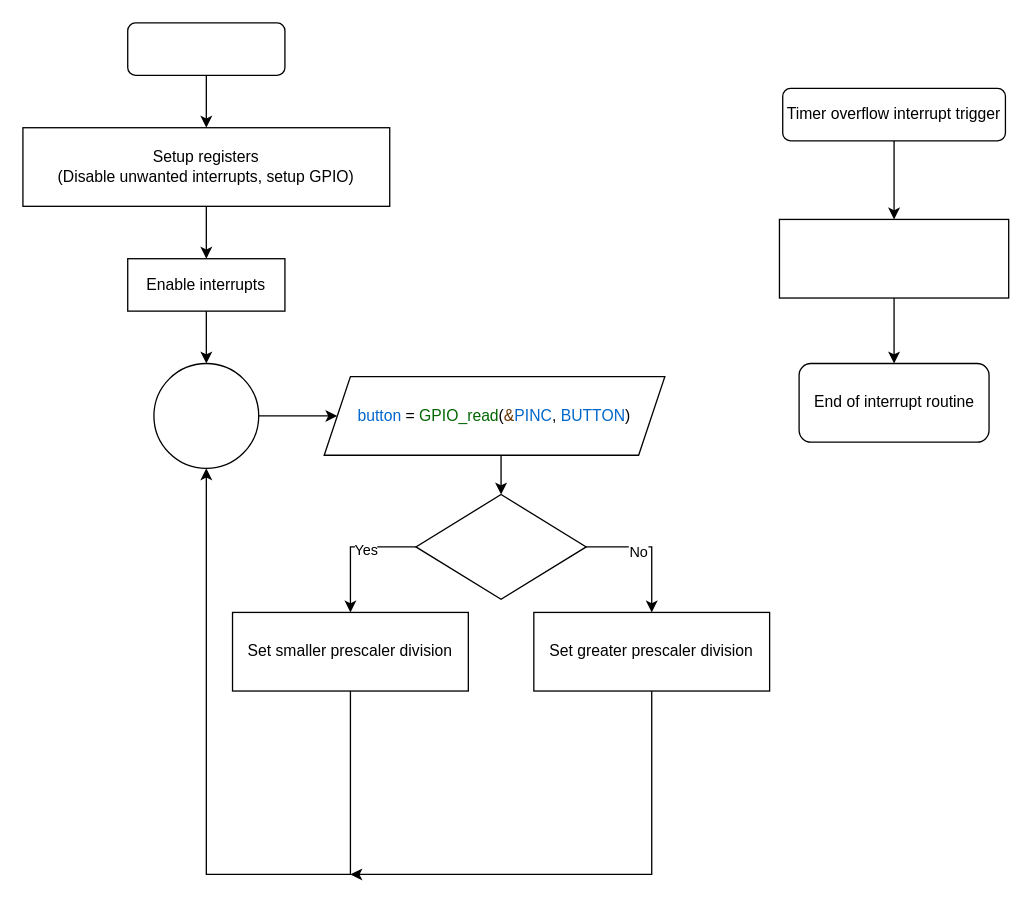
Image size: 1032x908. Some labels were removed from this diagram. Here are the shapes that lost their labels. From the top down, the centre of each, then its label:
point 205,48: Start
point 893,258: Toggle led
point 206,415: while(1)
point 500,546: Is button pressed?
